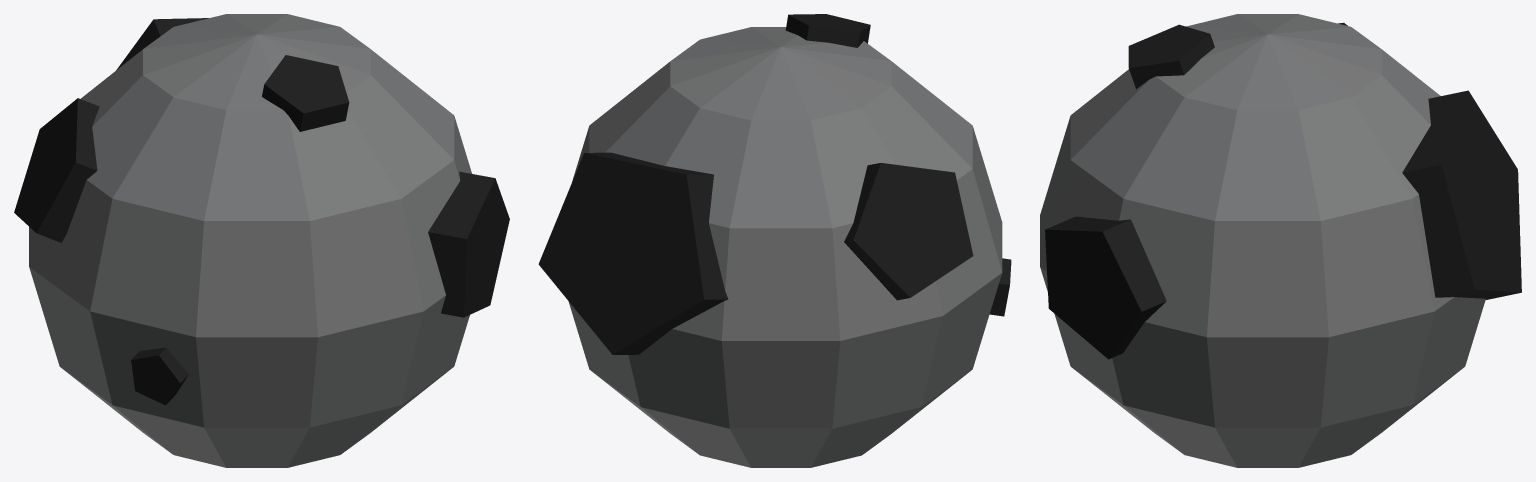
The model's file is AsteroidCarbonFiber.obj.
The picture shows the model from 3 angles, left to right: view 1: azimuth 30°, elevation 25°; view 2: azimuth 150°, elevation 25°; view 3: azimuth 270°, elevation 25°; orthographic projection. The views are drawn at different scales.
Visible parts, largest first — view 1: AsteroidBody, CarbonFiberFrag5, CarbonFiberFrag2, CarbonFiberFrag1, CarbonFiberFrag4, CarbonFiberFrag3; view 2: AsteroidBody, CarbonFiberFrag3, CarbonFiberFrag2, CarbonFiberFrag1, CarbonFiberFrag4; view 3: AsteroidBody, CarbonFiberFrag3, CarbonFiberFrag5, CarbonFiberFrag1.
Part boxes in pixels (x1,y1,x2,y2): AsteroidBody: [29, 14, 471, 467]; CarbonFiberFrag5: [428, 171, 509, 317]; CarbonFiberFrag2: [14, 98, 99, 242]; CarbonFiberFrag1: [262, 55, 349, 131]; CarbonFiberFrag4: [131, 347, 188, 405]; CarbonFiberFrag3: [116, 18, 208, 70]; AsteroidBody: [568, 27, 1002, 467]; CarbonFiberFrag3: [538, 152, 728, 354]; CarbonFiberFrag2: [844, 163, 973, 300]; CarbonFiberFrag1: [785, 14, 870, 47]; CarbonFiberFrag4: [989, 258, 1011, 316]; AsteroidBody: [1040, 14, 1485, 467]; CarbonFiberFrag3: [1402, 90, 1521, 299]; CarbonFiberFrag5: [1045, 216, 1166, 359]; CarbonFiberFrag1: [1128, 24, 1214, 89].
Bounding box in the file's own units: 0.2576 × 0.2504 × 0.2644.
Materials: 5 (5 with a texture image).
